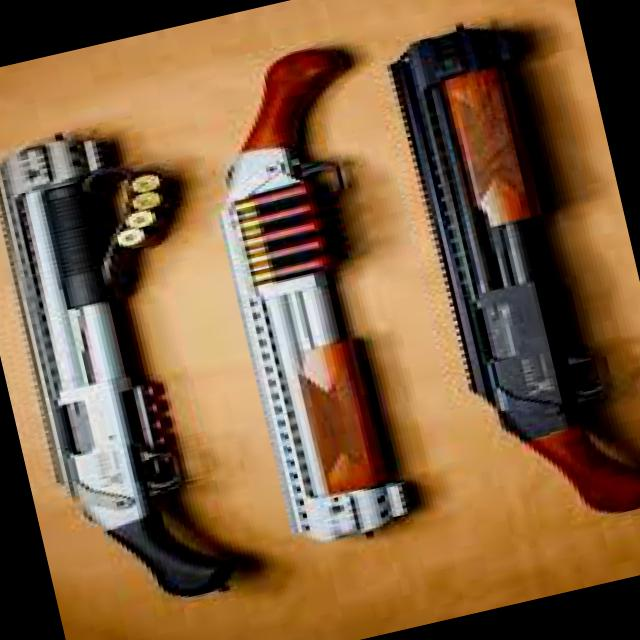long weapon: (0, 95, 297, 629), (175, 29, 468, 563), (375, 0, 640, 544)
